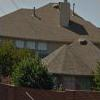Chimney: (52, 1, 77, 32)
